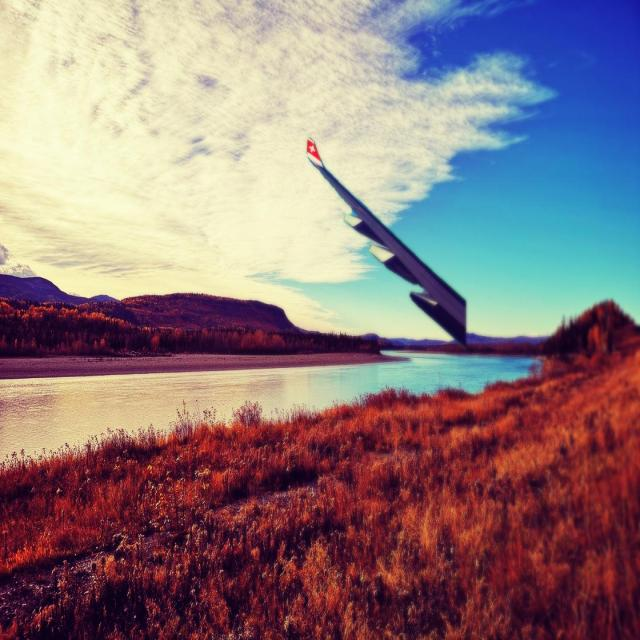airplane: (305, 137, 468, 350)
